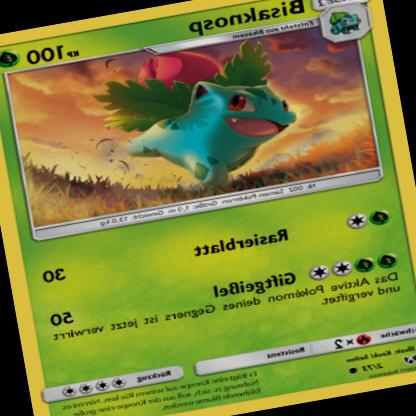Ivysaur: (92, 35, 310, 204)
